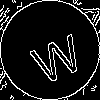W: (25, 25, 87, 86)
